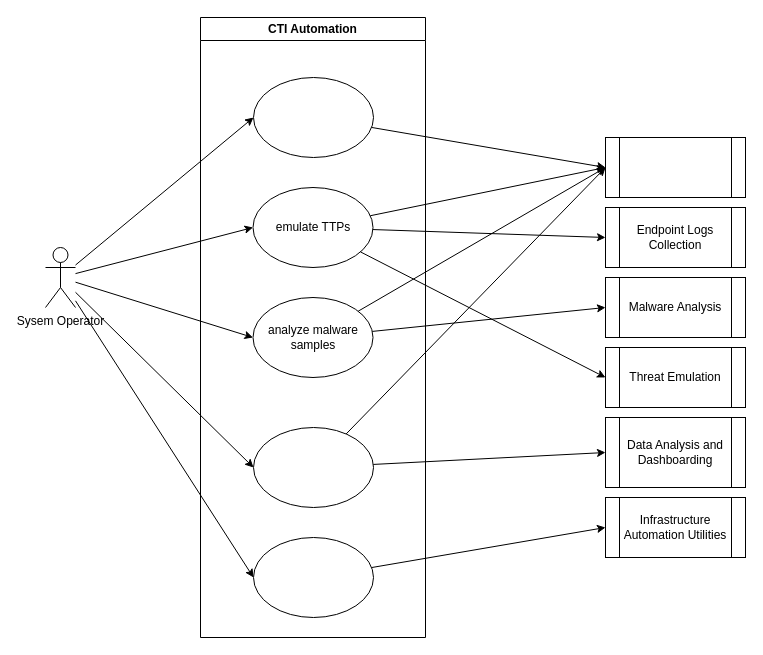
Image size: 763x655. Some labels were removed from this diagram. The centre of each missing label's shape, as x and y in pixels:
"manage threat data" belongs at point 313,117.
"rebuild / deploy" belongs at point 313,577.
"threat data analysis" belongs at point 313,467.
"Threat Data Management" belongs at point 675,167.
